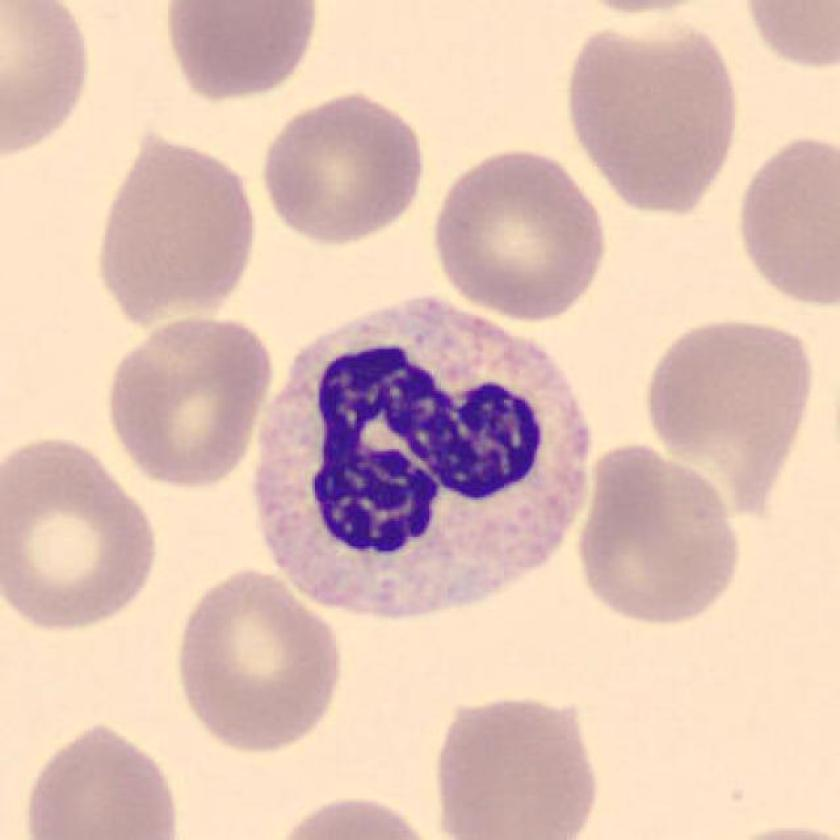neutrophil: (257, 303, 592, 619)
